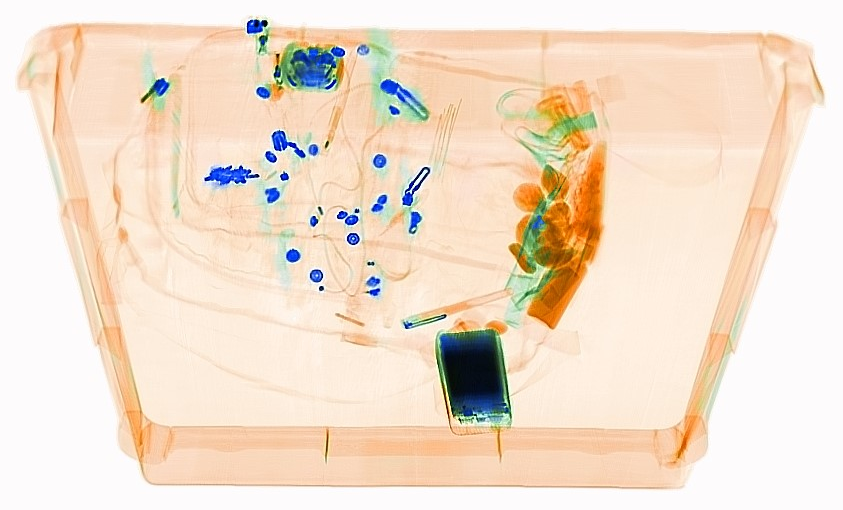PortableBattery: (429, 322, 517, 440)
